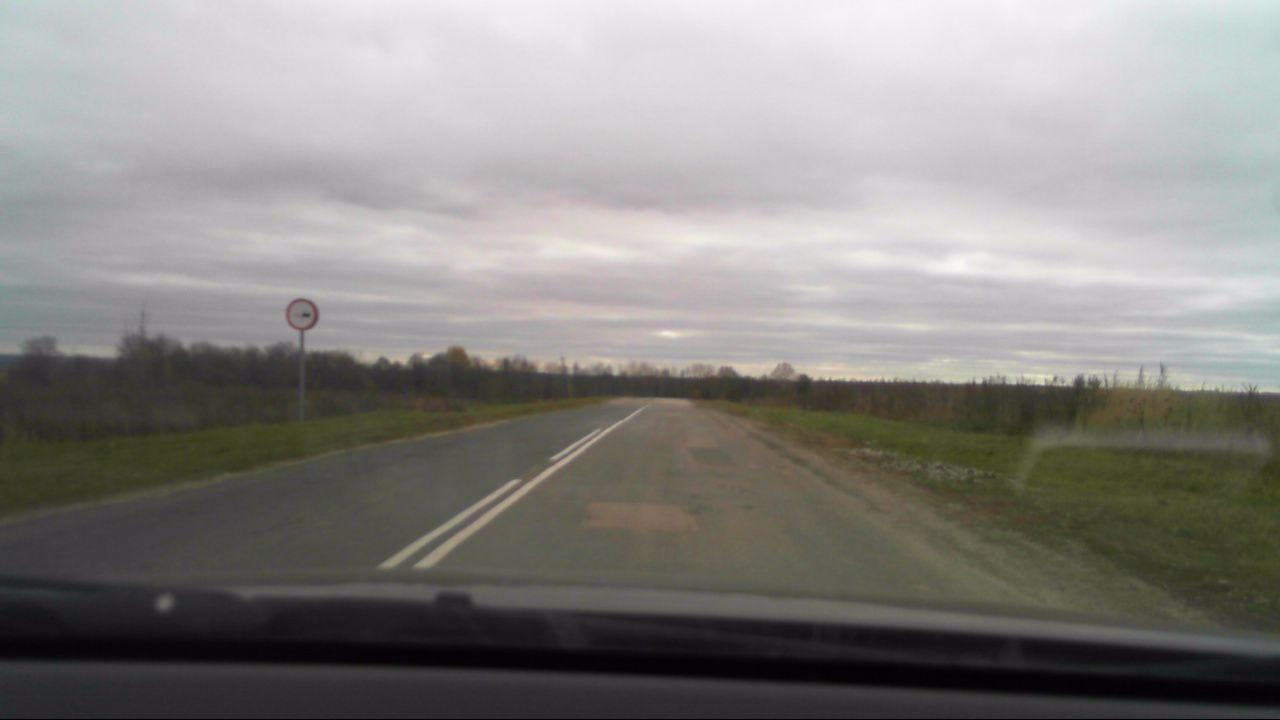3_20: (284, 295, 321, 333)
